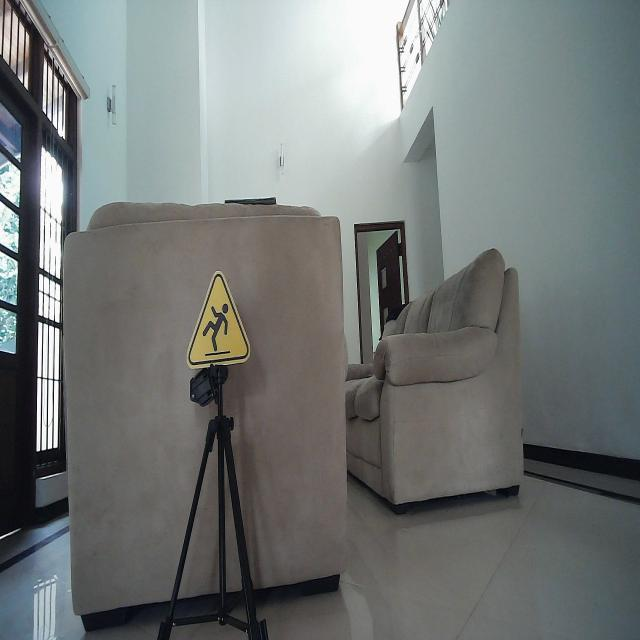slippery_sign: (186, 269, 252, 370)
